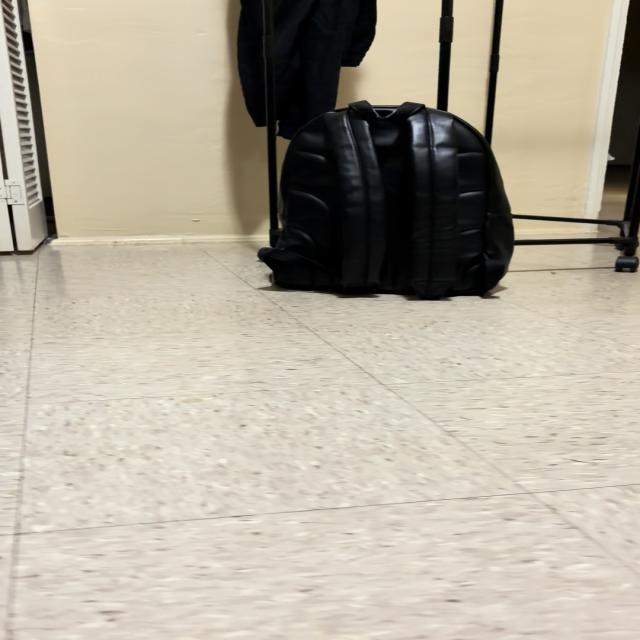backpack: (259, 102, 513, 298)
